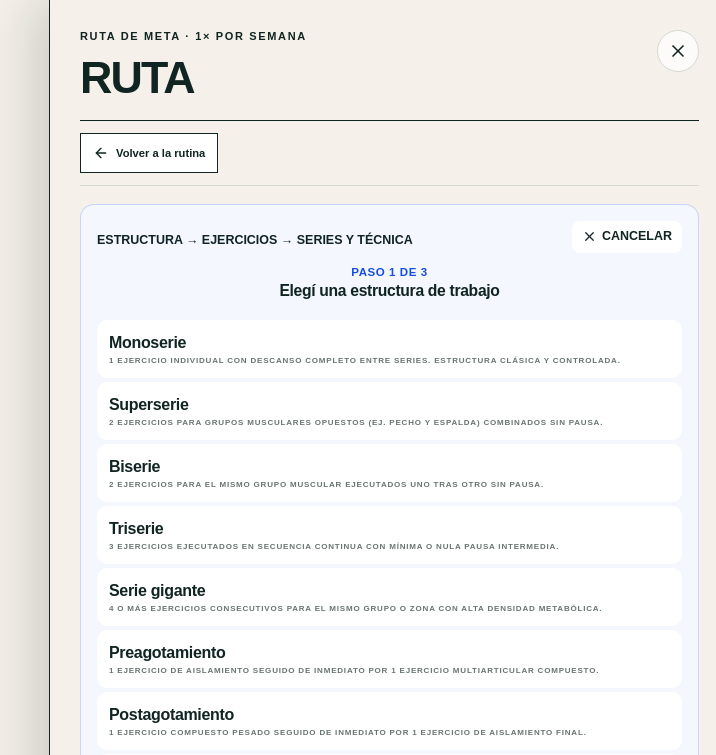
independent manual prescriptions › strips leading zeroes in exercise adder prescription numeric inputs
Click the button "Monoserie".
click(148, 342)  # box x1=97 y1=320 x2=682 y2=378
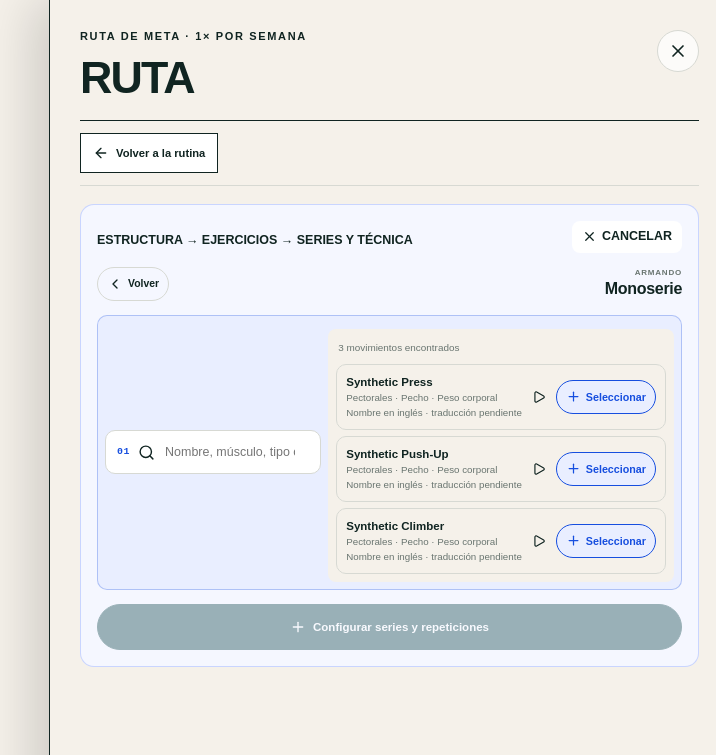
Click the button with aria-label "Seleccionar Synthetic Press como ejercicio 1".
click(606, 396)  # box x1=556 y1=380 x2=656 y2=414
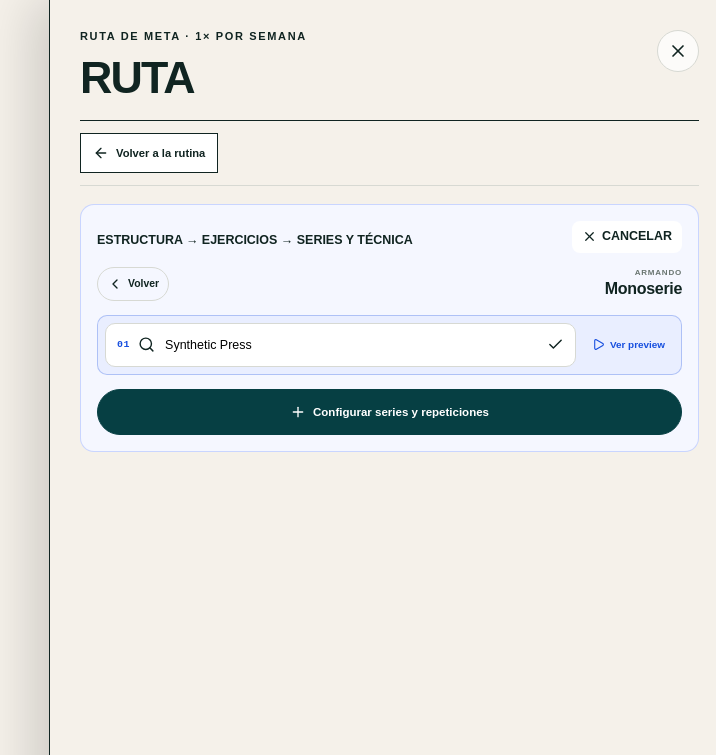
Click the button "Configurar series y repeticiones".
click(390, 412)  # box x1=97 y1=388 x2=682 y2=434
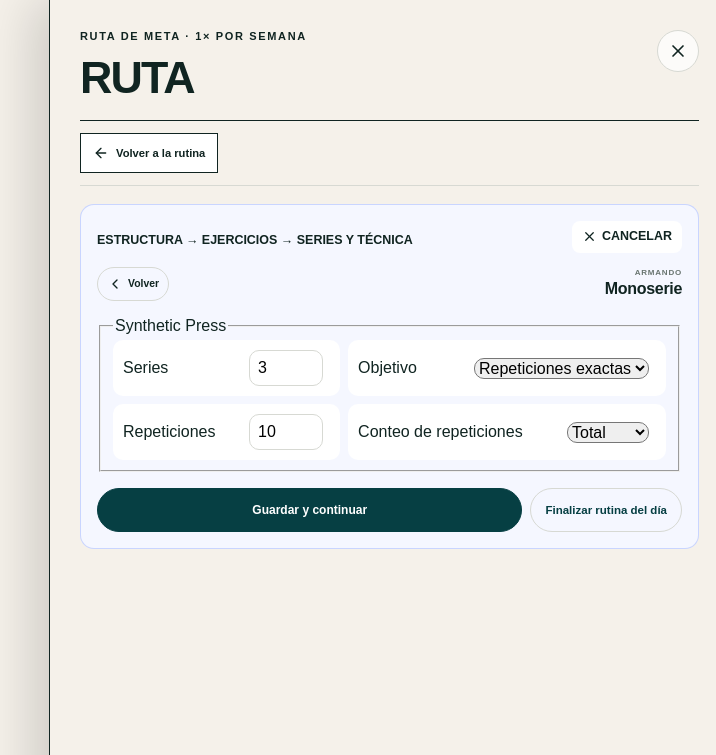
Replace the text in the number field labelled "Repeticiones" with "030" at (286, 432), box x1=249 y1=414 x2=323 y2=450
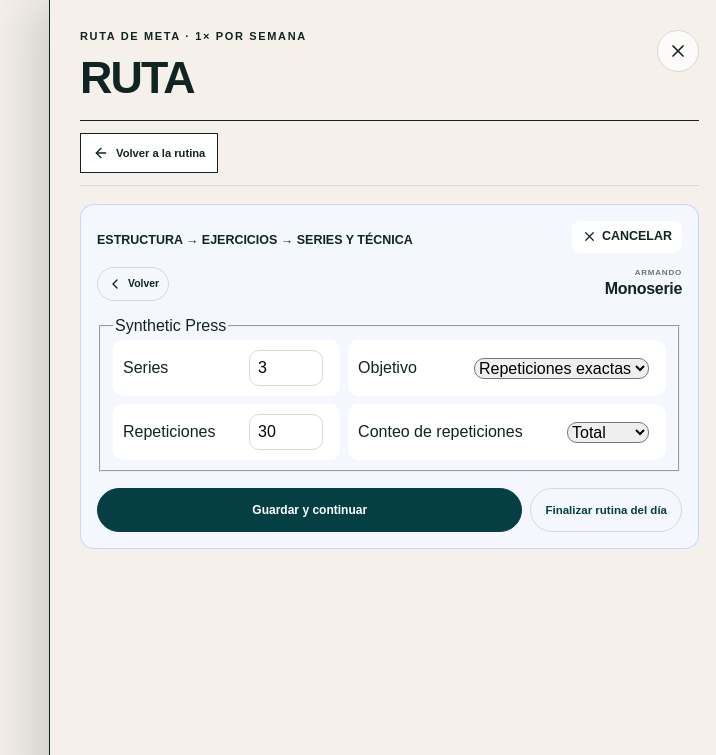
expect the number field labelled "Repeticiones" holds "30": met, box x1=249 y1=414 x2=323 y2=450
Replace the text in the number field labelled "Series" with "04" at (286, 368), box x1=249 y1=350 x2=323 y2=386
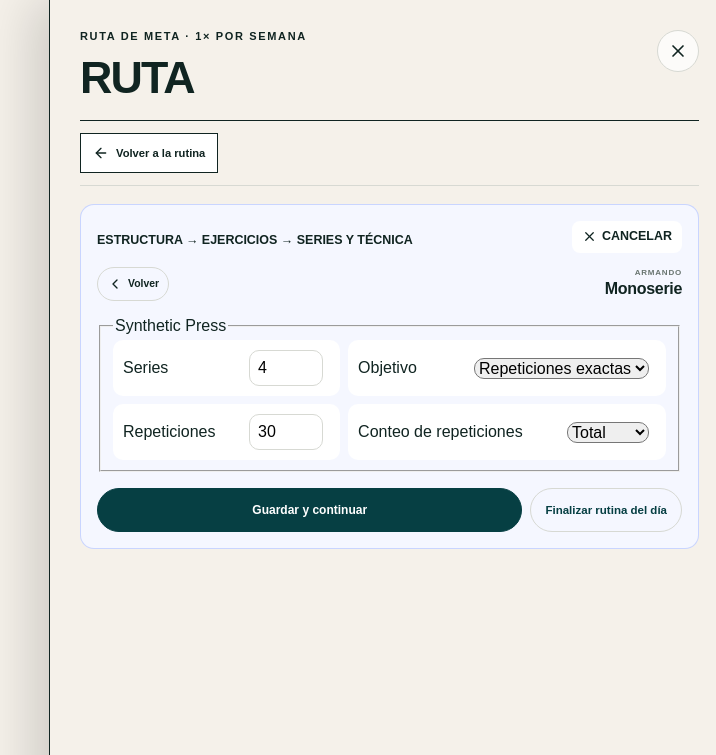
expect the number field labelled "Series" holds "4": met, box x1=249 y1=350 x2=323 y2=386
